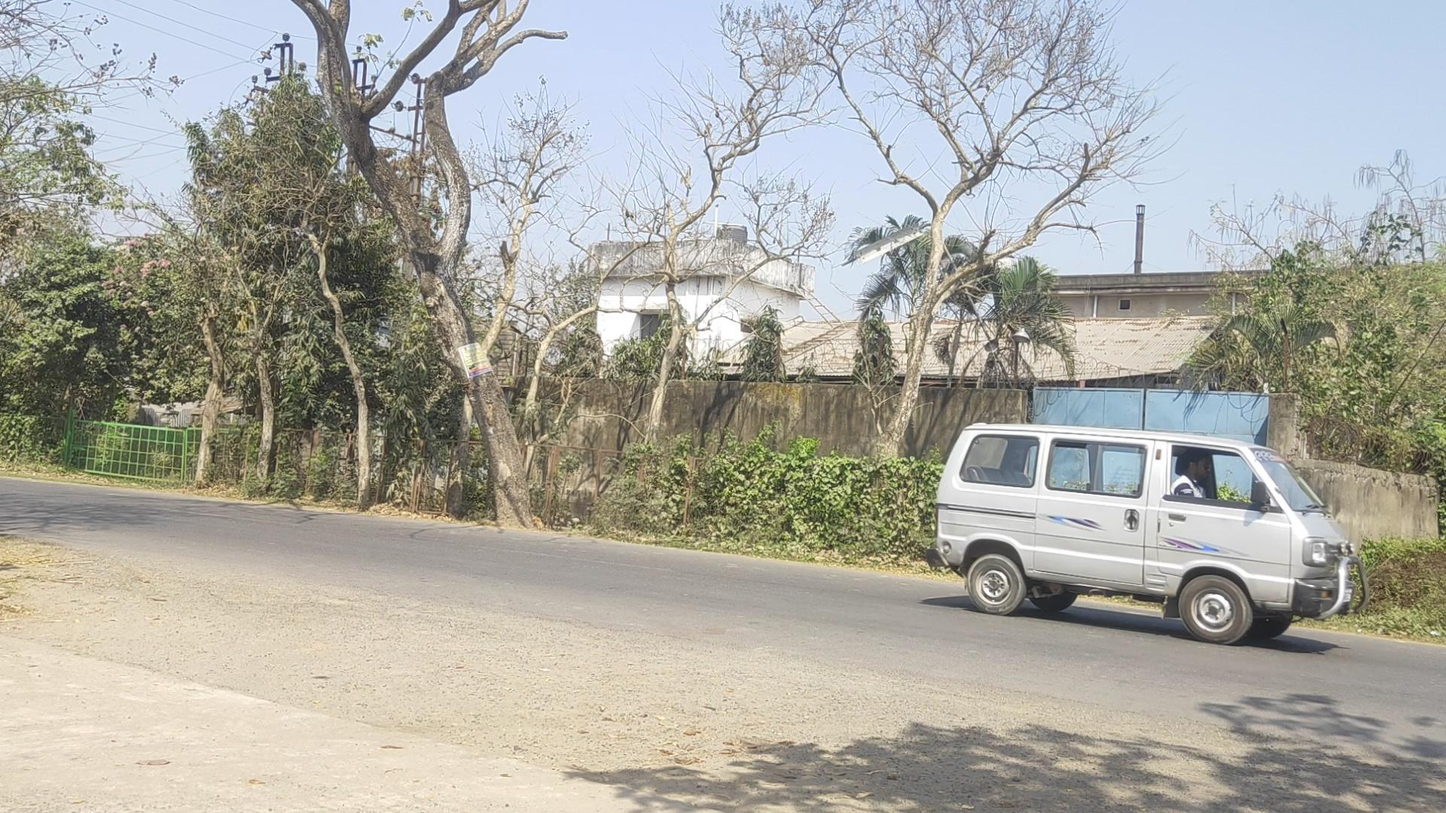van: (927, 422, 1368, 646)
